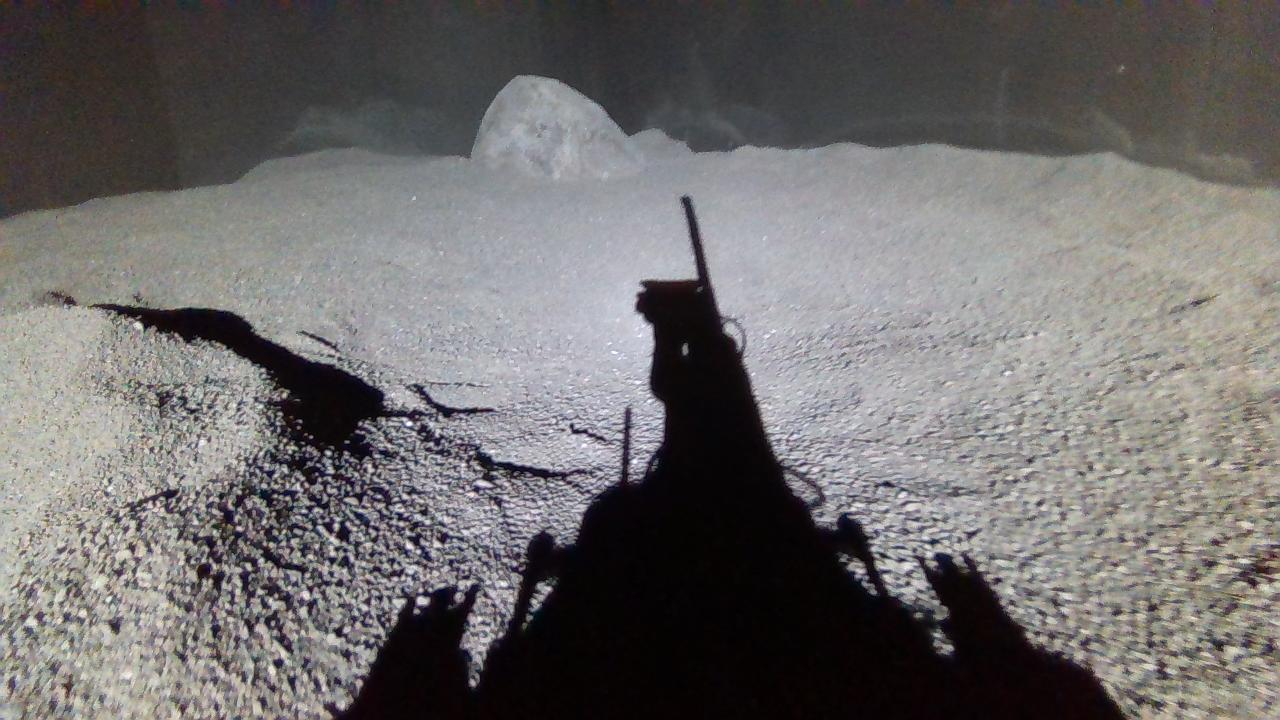rock: (472, 74, 646, 178)
